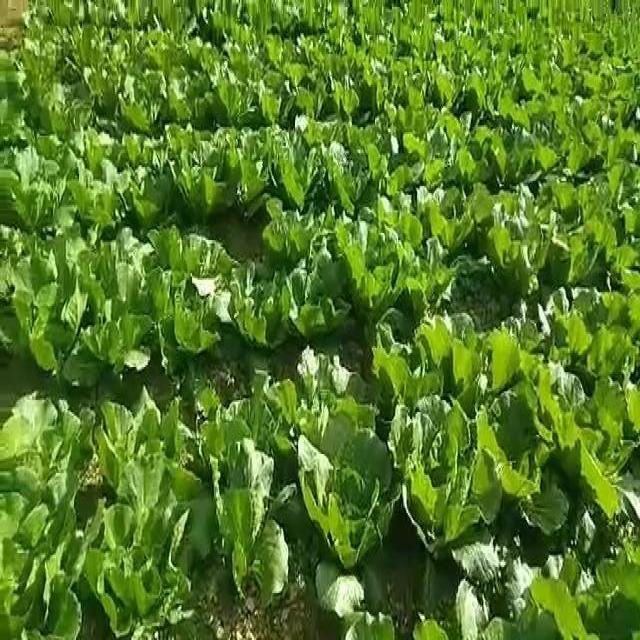Cabbage: (296, 418, 401, 556), (394, 396, 496, 538), (92, 501, 193, 640), (0, 490, 91, 640), (216, 462, 292, 597), (0, 388, 103, 485), (506, 390, 580, 510), (190, 377, 284, 461), (550, 287, 640, 372), (106, 394, 184, 488), (298, 338, 373, 427), (440, 305, 520, 387), (373, 314, 441, 408), (162, 266, 230, 360), (226, 260, 297, 350), (76, 302, 158, 376), (583, 383, 640, 482), (282, 254, 345, 330), (96, 231, 168, 296), (0, 155, 64, 226), (498, 206, 551, 290), (178, 136, 232, 212), (31, 236, 98, 296), (18, 295, 70, 371), (430, 180, 491, 243), (346, 232, 400, 298), (73, 163, 131, 224), (324, 140, 364, 227), (569, 206, 611, 288), (166, 225, 240, 269), (266, 191, 322, 249), (278, 140, 320, 210), (123, 84, 179, 136), (130, 164, 178, 222), (86, 54, 125, 106), (176, 74, 217, 123), (45, 81, 84, 131), (219, 69, 254, 124), (242, 143, 268, 212), (329, 72, 366, 116), (290, 76, 324, 122)
